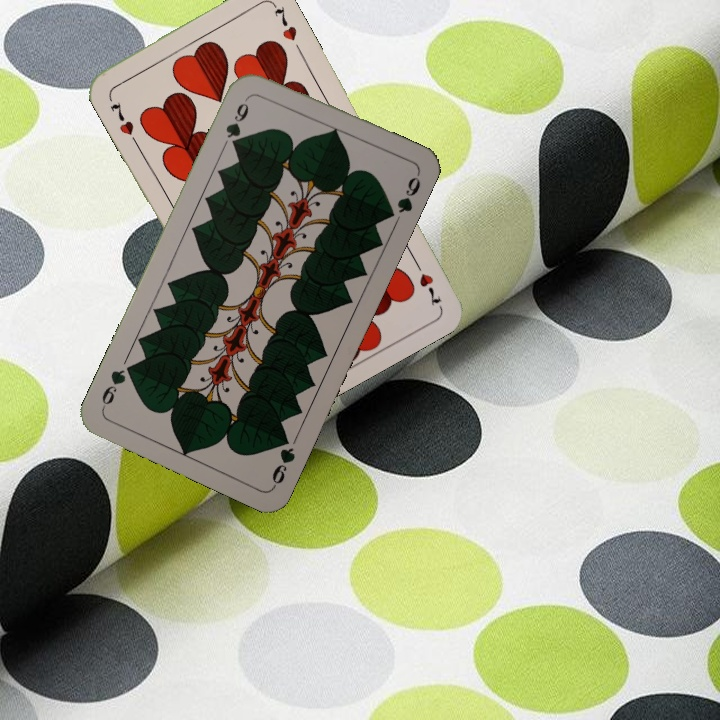G9: (267, 429, 298, 490), (221, 92, 253, 151)
H7: (409, 255, 444, 309), (106, 99, 137, 138)
